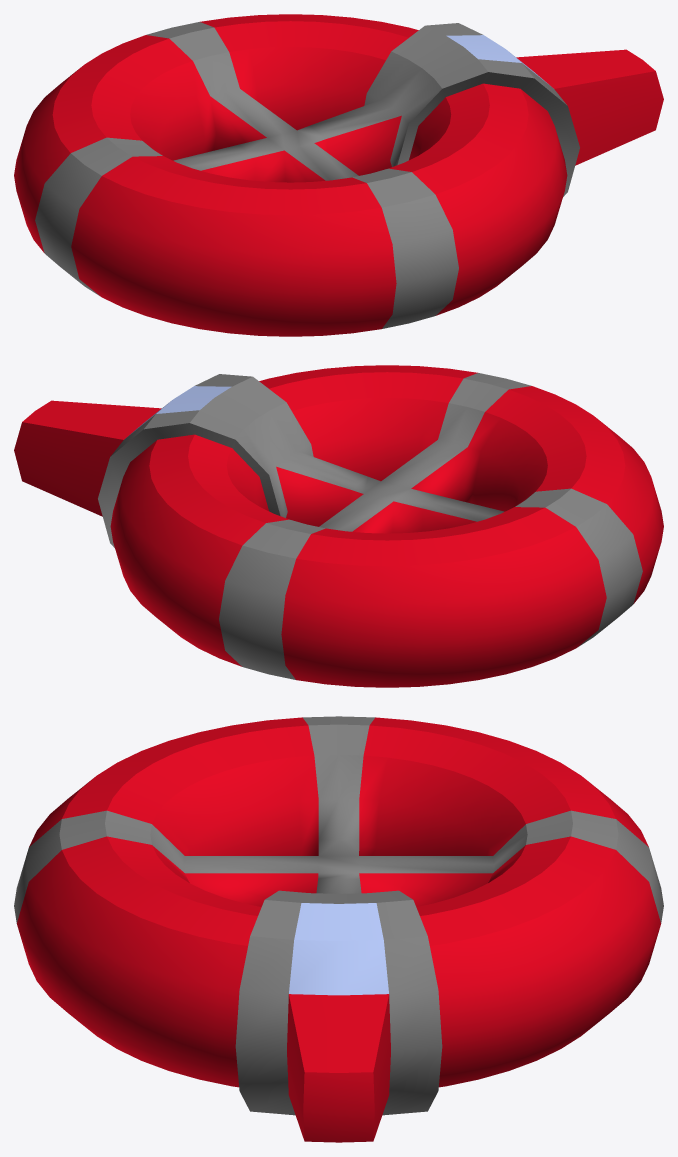
The model's file is EnemySpaceship2.fbx.
3 renders of one model, top to bottom at view 1: azimuth 30°, elevation 25°; view 2: azimuth 150°, elevation 25°; view 3: azimuth 270°, elevation 25°, orthographic. The views are drawn at different scales.
Visible parts, largest first — view 1: Enemy2; view 2: Enemy2; view 3: Enemy2.
Part boxes in pixels (box(x1,y1,x2,y2)): Enemy2: box(14, 14, 663, 336); Enemy2: box(14, 365, 663, 687); Enemy2: box(14, 716, 663, 1142).
Bounding box in the file's own units: 2289 × 629 × 1830.
